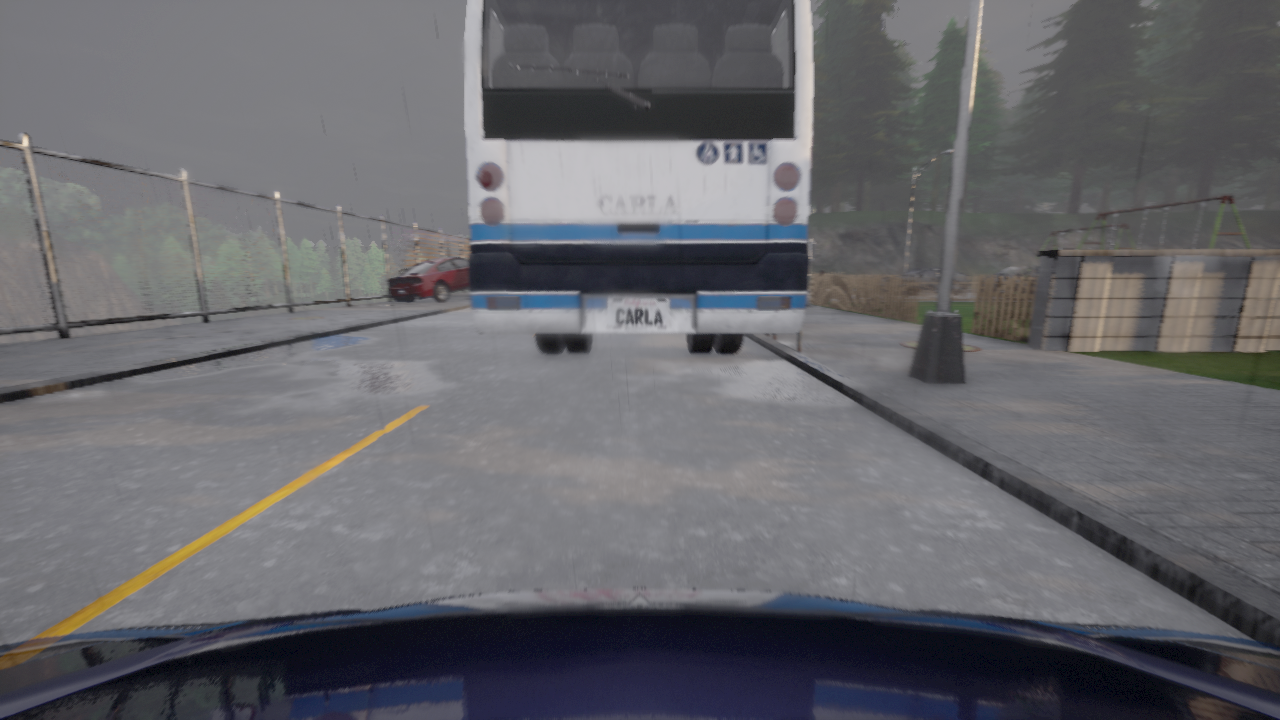cyclist: (0, 588, 1279, 719), (465, 0, 812, 353), (388, 257, 469, 301), (901, 268, 970, 293), (995, 266, 1038, 289), (1016, 272, 1037, 290)
pedestrian: (820, 270, 824, 276)
